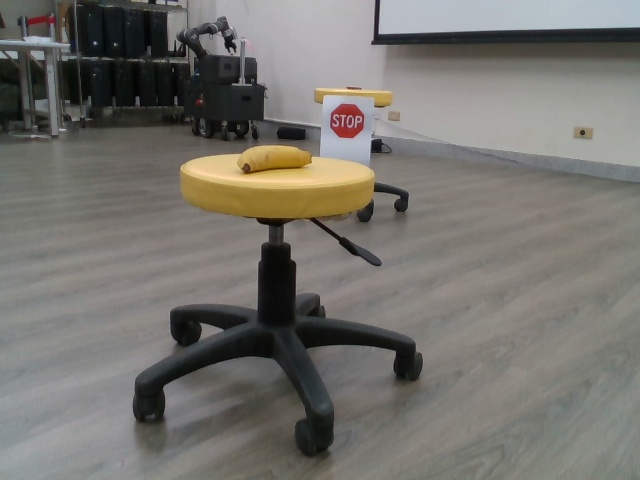banana: (236, 135, 316, 175)
stop: (322, 100, 369, 143)
